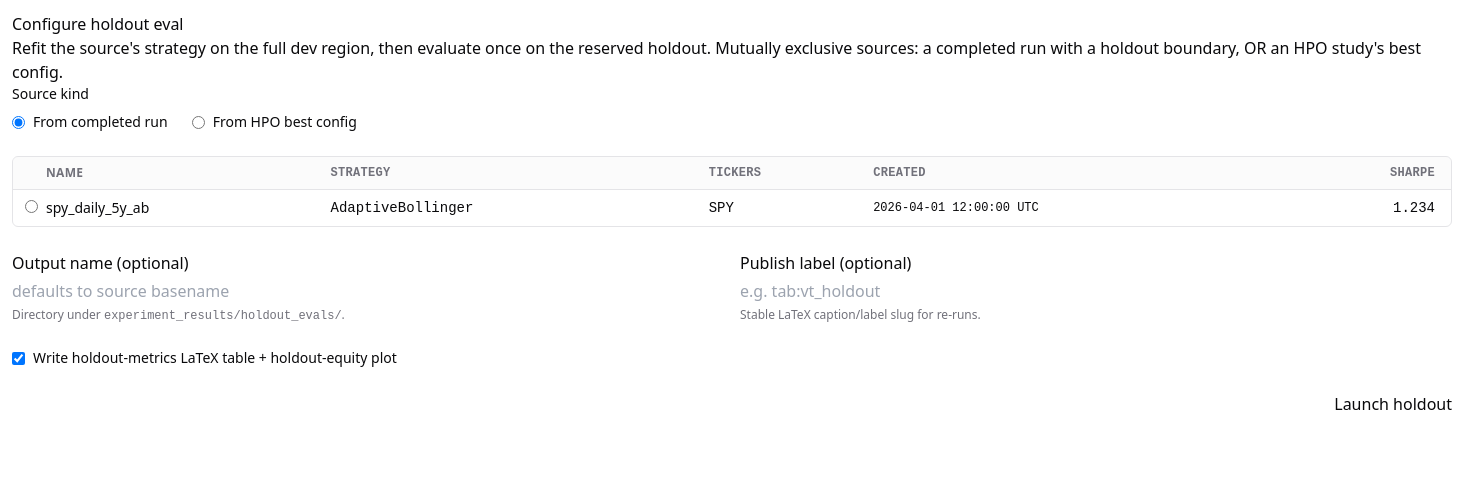
Test case: ConfigureHoldoutPage › surfaces backend 422 errors inline (e.g. missing holdout boundary)
expect the text "spy_daily_5y_ab" is shown: met, box [45,190,330,226]
Click the radio button named "Select spy_daily_5y_ab".
click(32, 206)  # box [25,200,38,213]
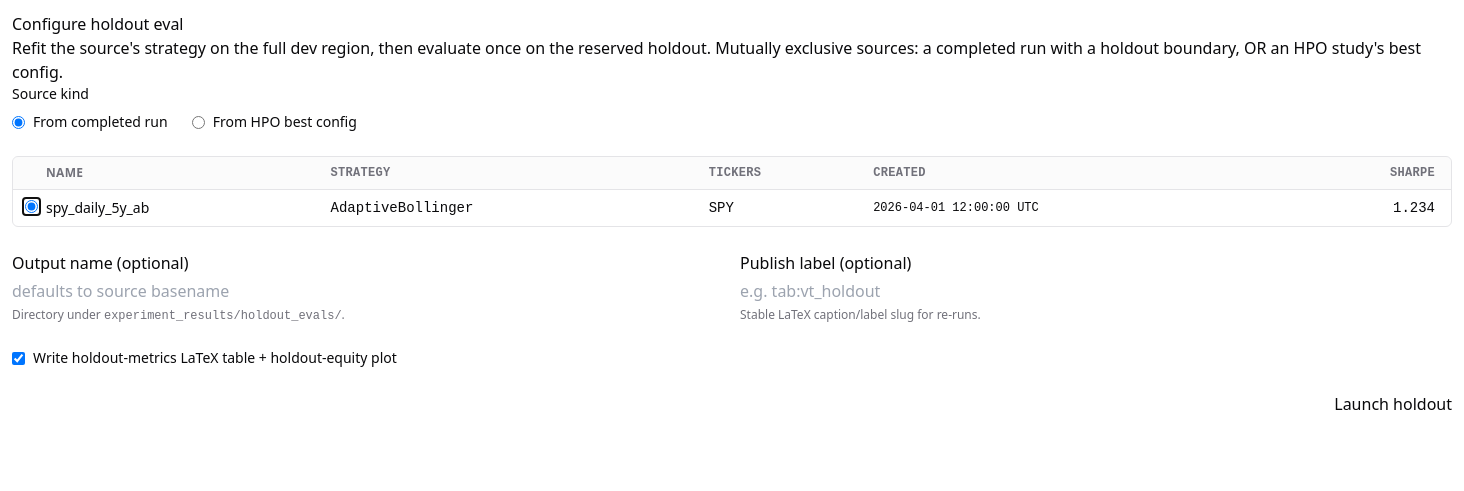
Click the button "Launch holdout".
click(1393, 404)  # box [1334,392,1452,416]
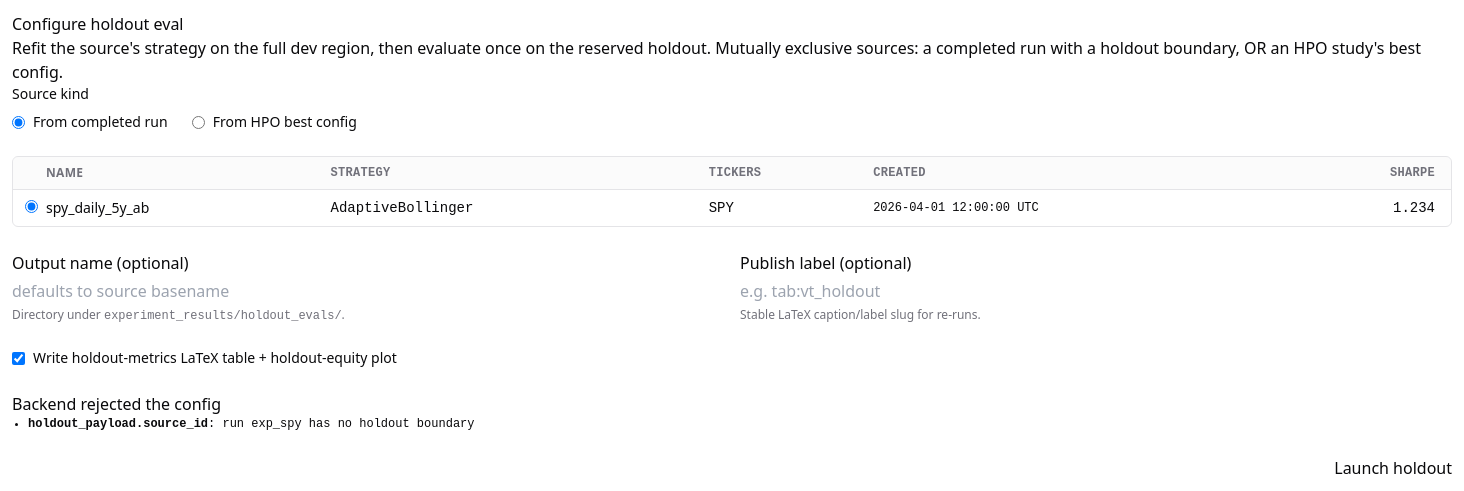
expect the list item "no holdout boundary" is shown: met, box [222,417,474,431]
